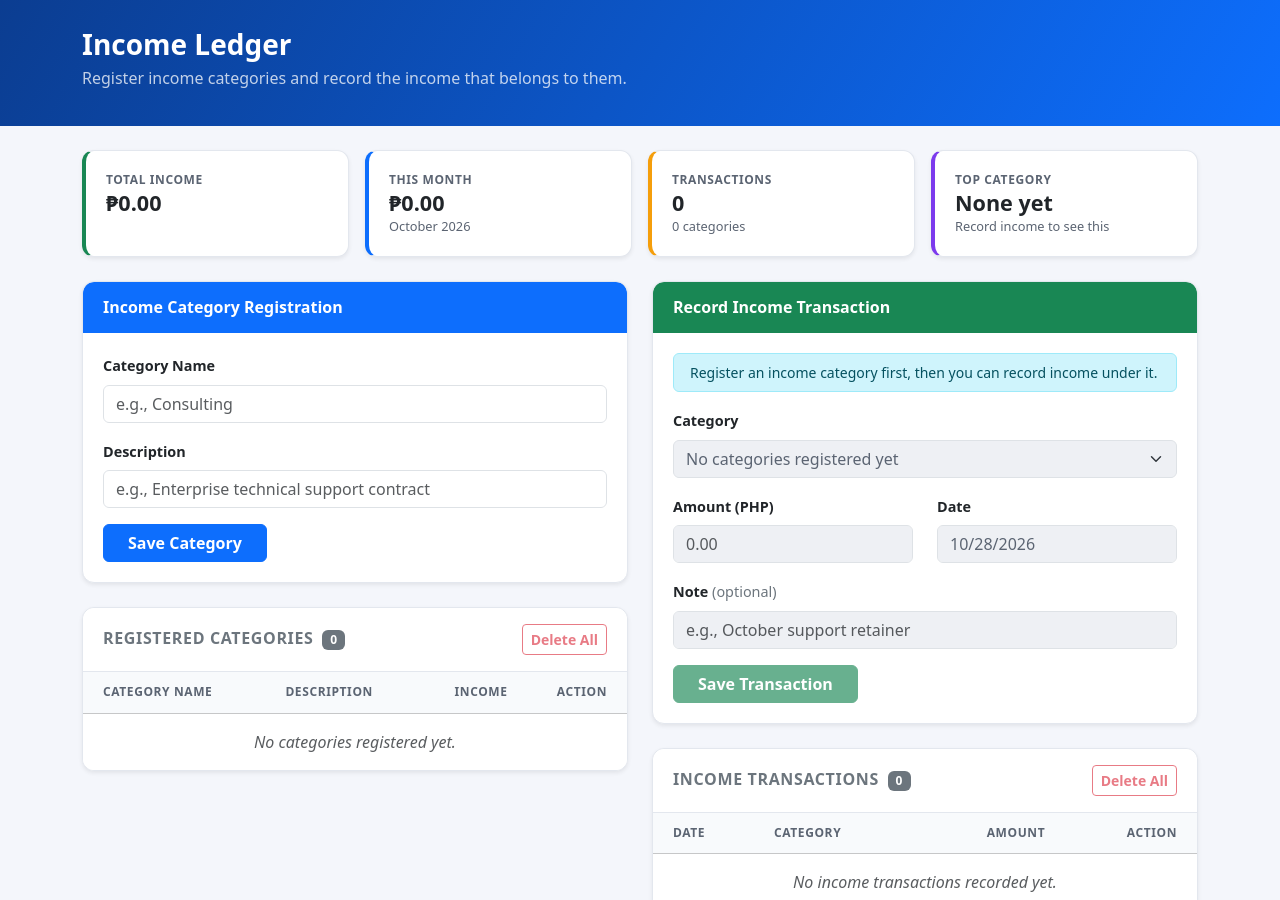
Test: category edit and search › edits a category through the form
Type "Consulting" into the field labelled "Category Name" at [355, 404], box [103, 385, 607, 423]
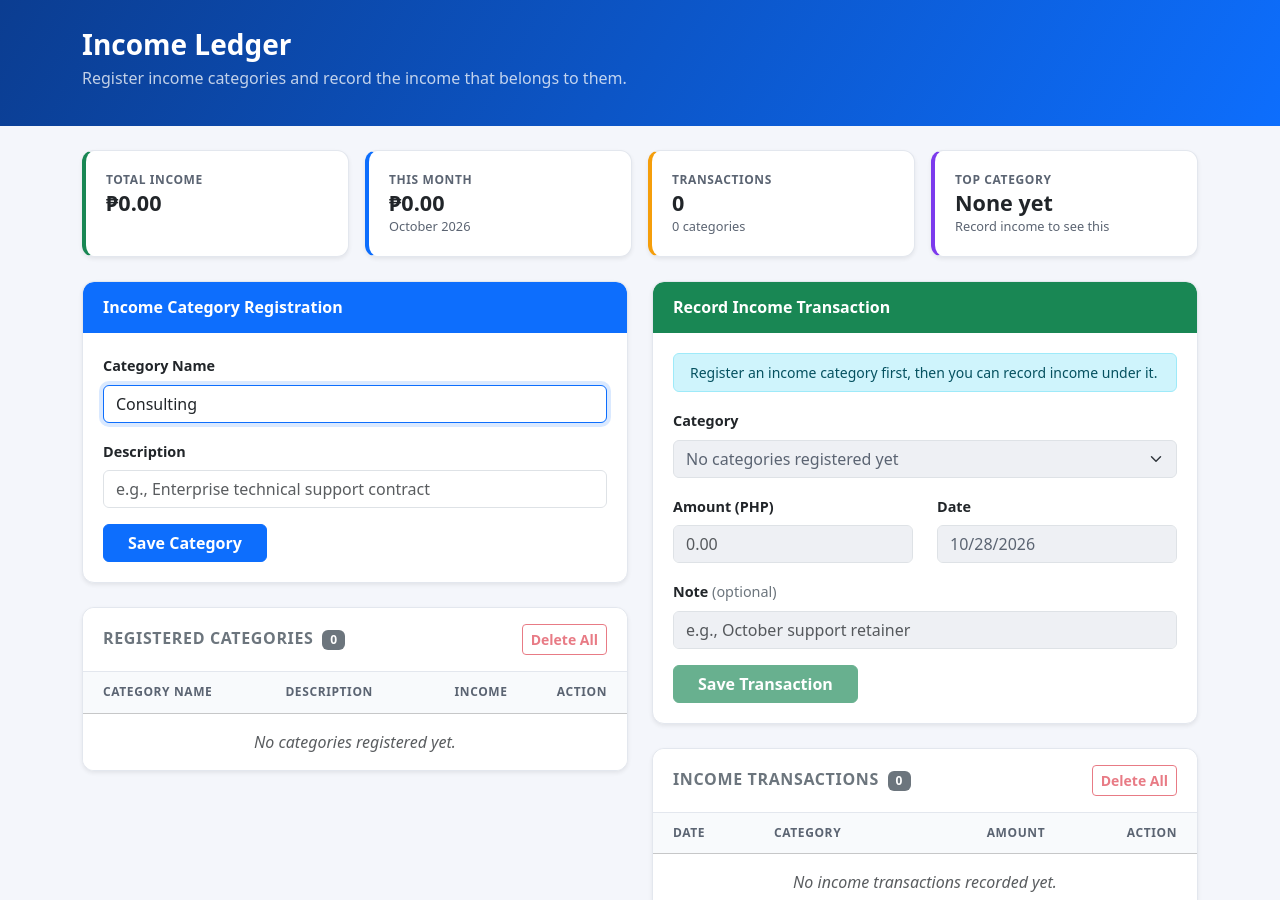
Type "Support" into the field labelled "Description" at [355, 489], box [103, 470, 607, 508]
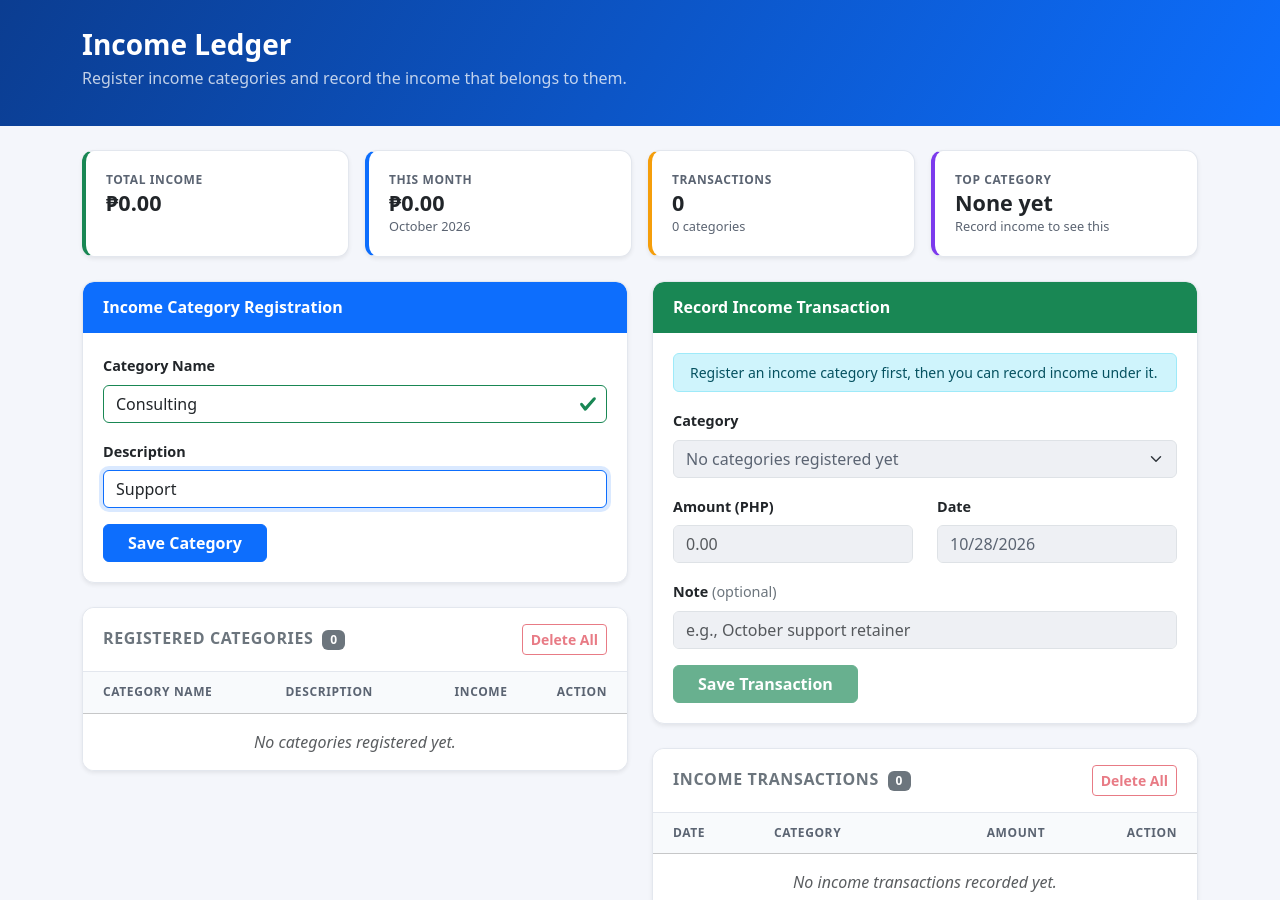
Click the button "Save Category" at [185, 543], box [103, 524, 267, 562]
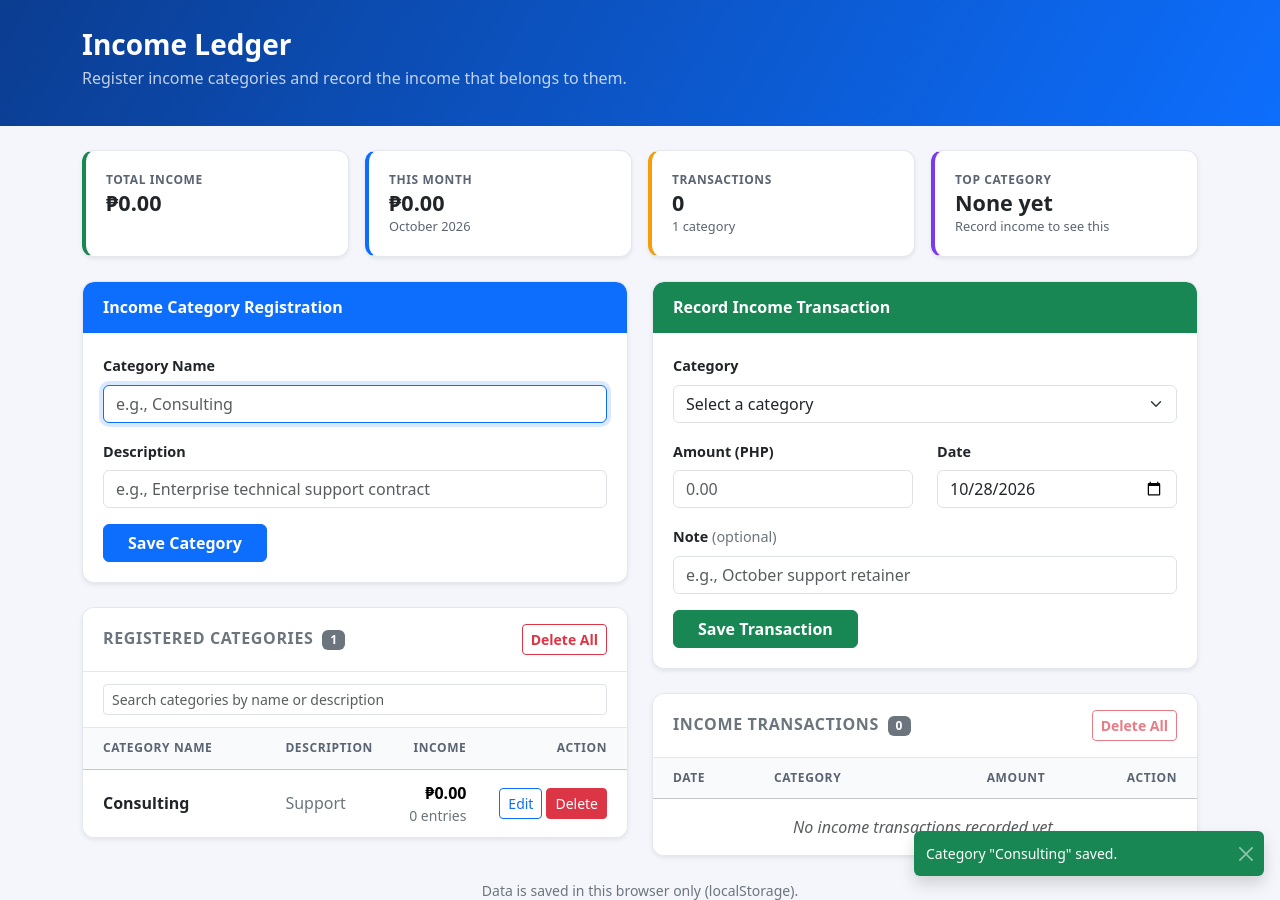
Click the button named "Edit Consulting" at [521, 803], box [499, 788, 542, 819]
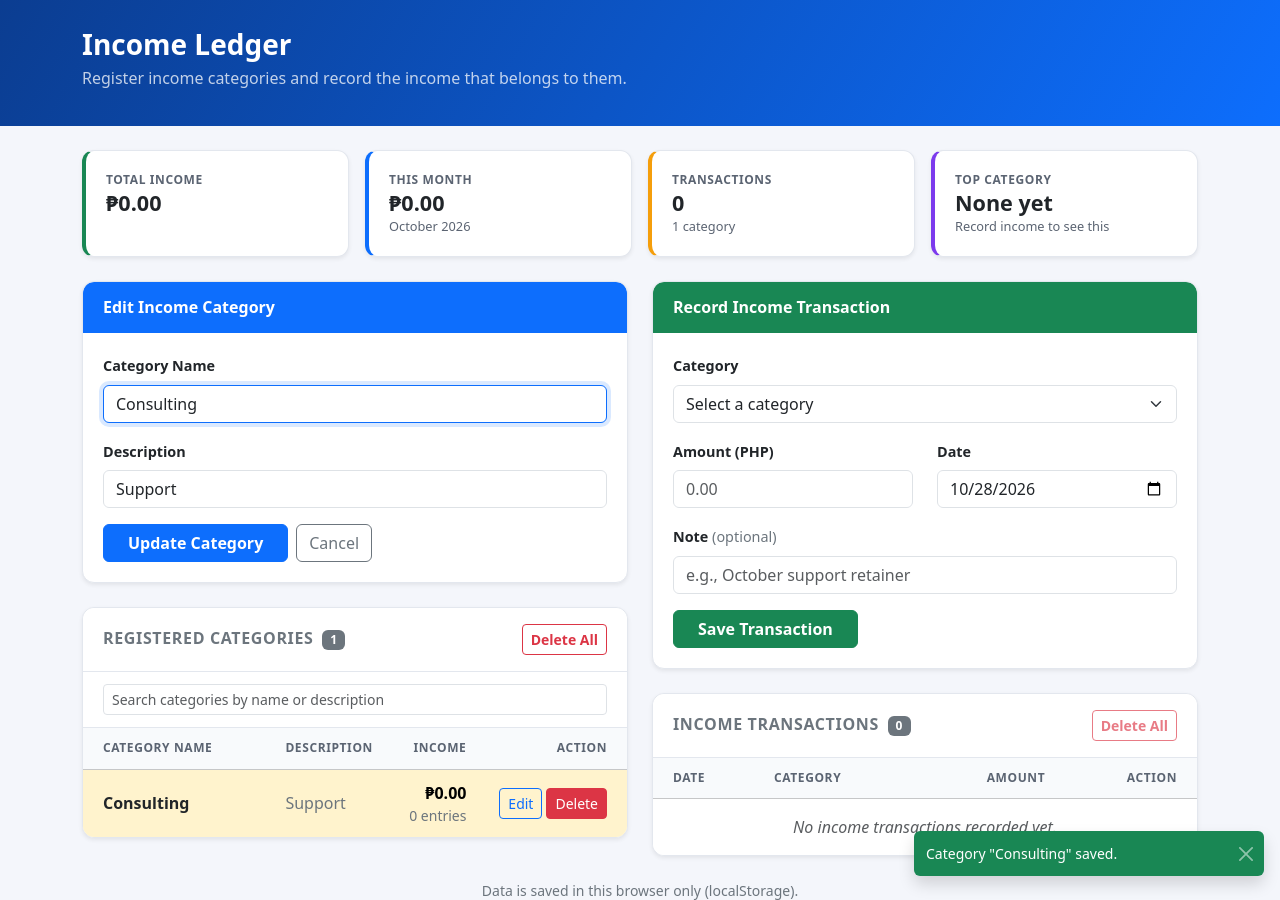
Expected: the button "Update Category" is shown, [103, 524, 288, 562]
Replace the text in the field labelled "Category Name" with "Advisory" at [355, 404], box [103, 385, 607, 423]
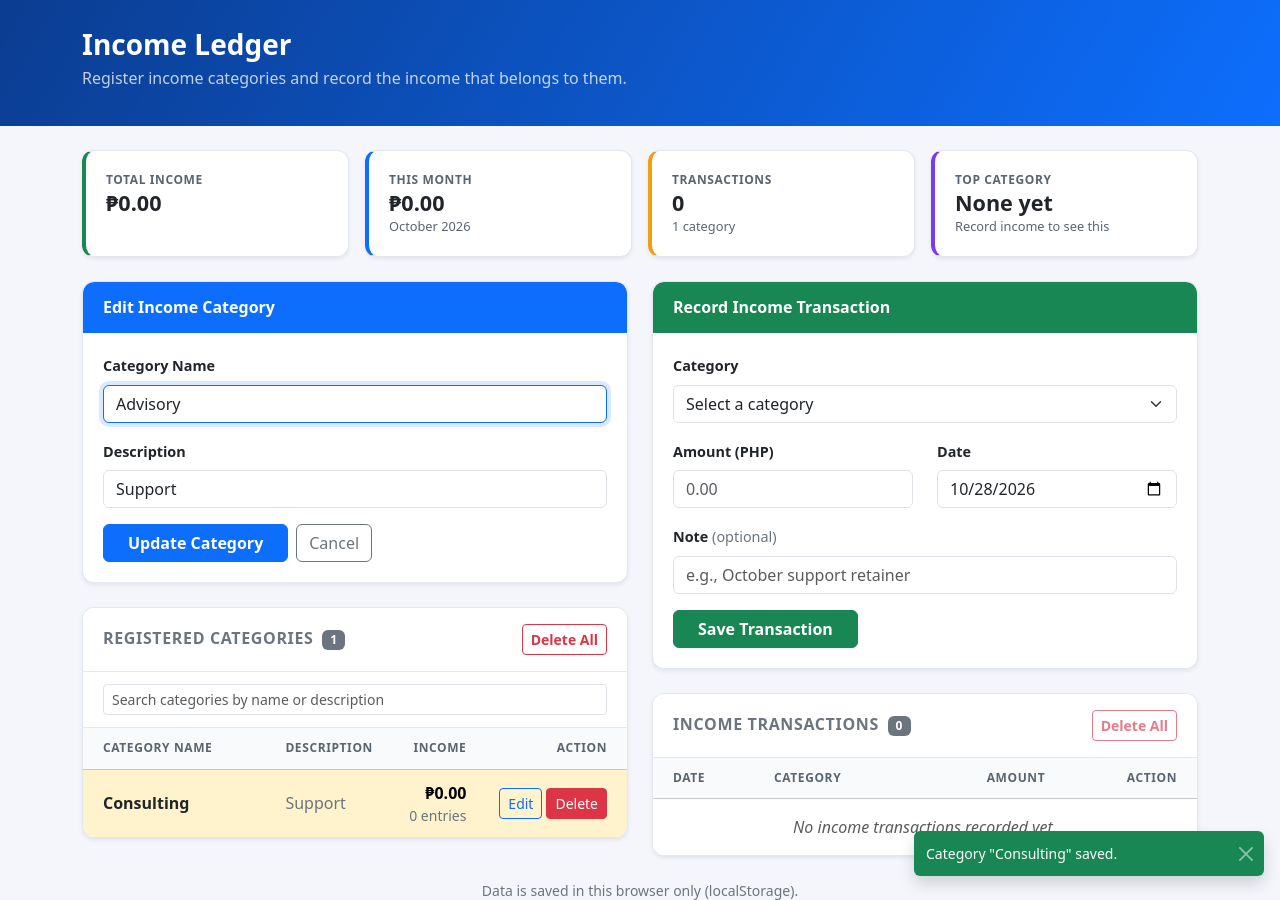
Click the button "Update Category" at [196, 543], box [103, 524, 288, 562]
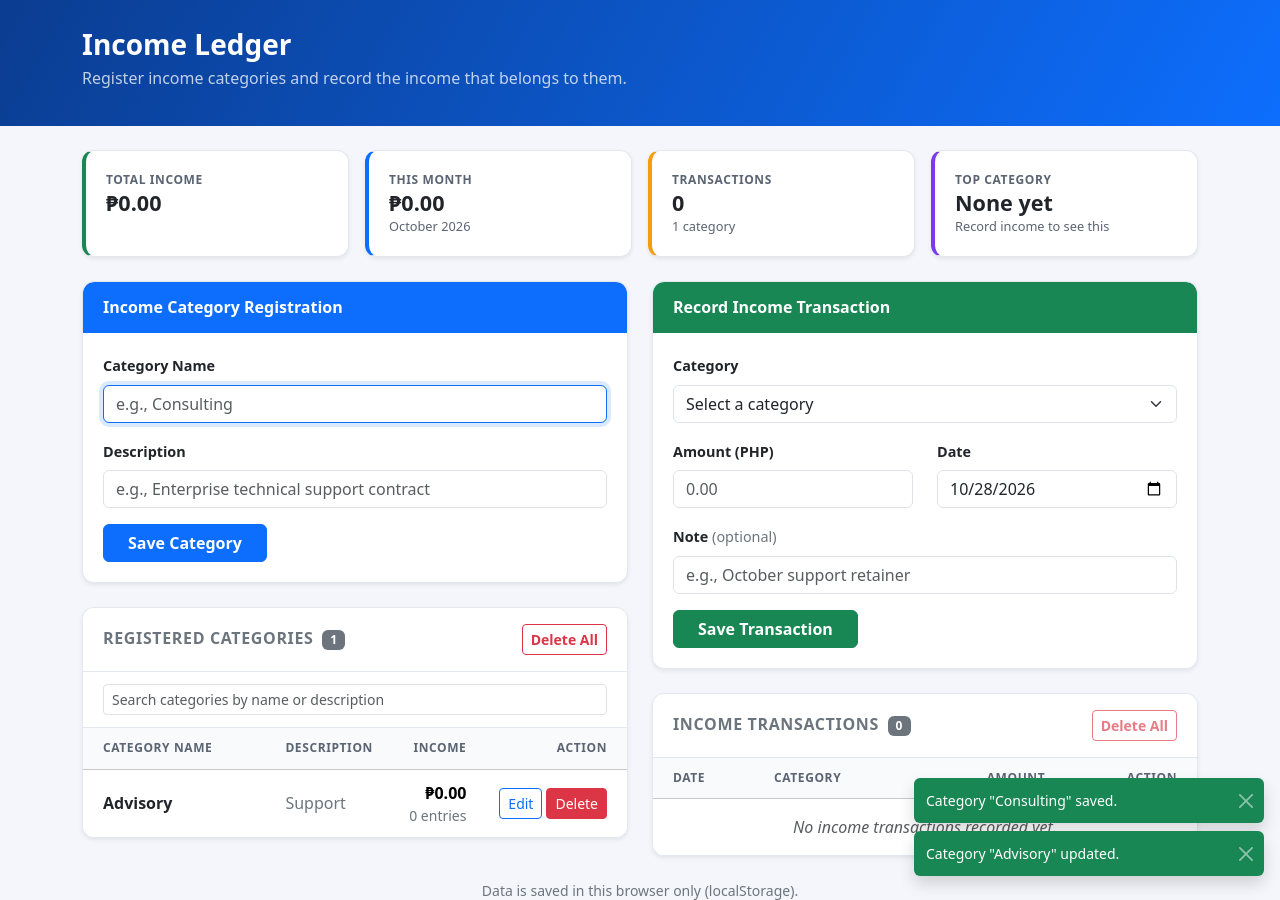
Expected: the cell "Advisory" is shown, [83, 769, 273, 837]
Expected: the button "Save Category" is shown, [103, 524, 267, 562]
